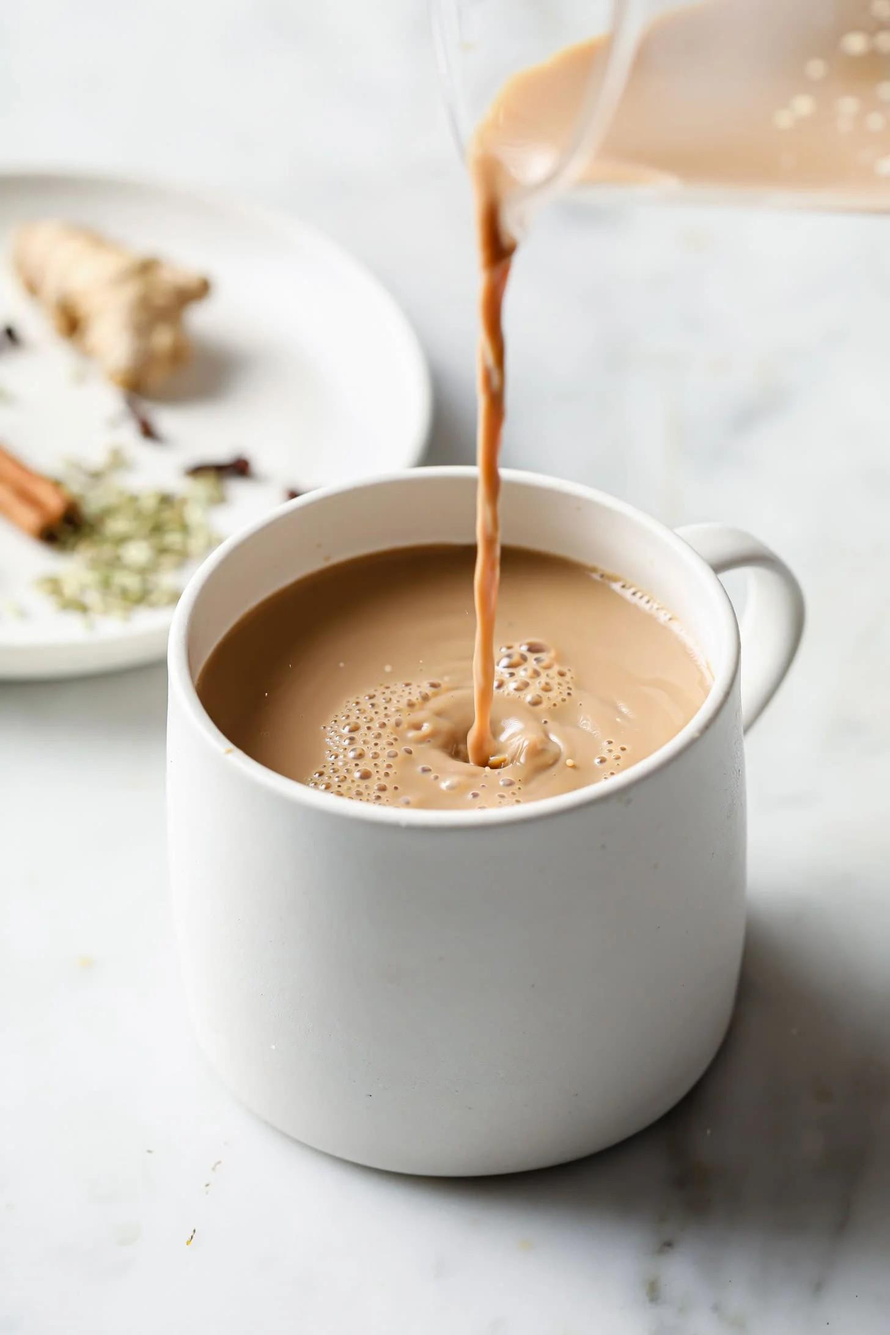Chai: (206, 549, 723, 805), (482, 14, 890, 200), (464, 112, 514, 775)
